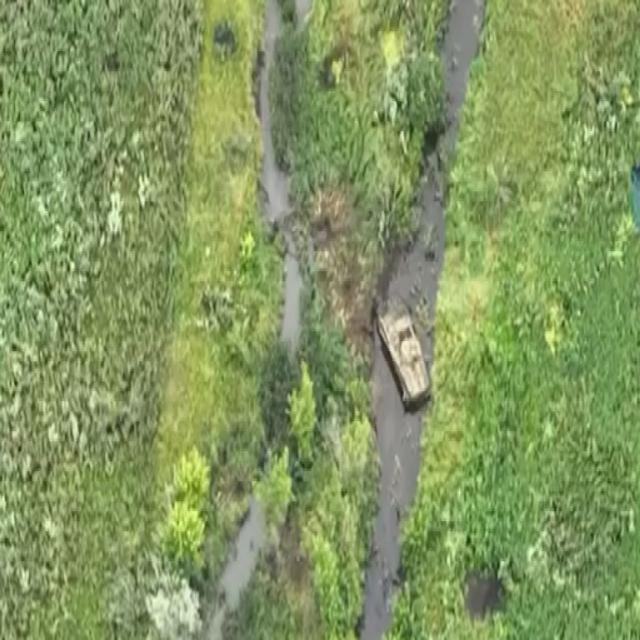APC-IFV: (375, 289, 433, 411)
